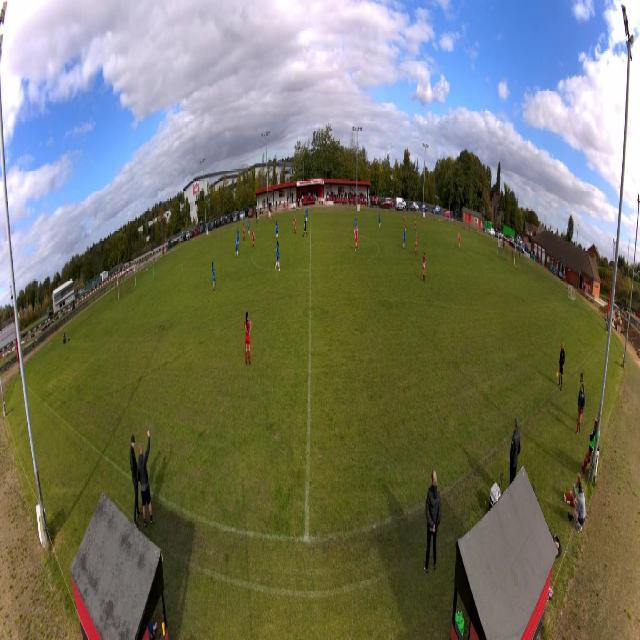player: (244, 311, 252, 366), (275, 240, 281, 271), (354, 227, 360, 253), (302, 216, 308, 237), (212, 261, 216, 291), (422, 251, 426, 280), (292, 215, 297, 235), (235, 236, 239, 260), (252, 228, 256, 249), (402, 228, 406, 249), (354, 215, 358, 236), (275, 220, 279, 240), (236, 228, 240, 248), (415, 231, 418, 257), (242, 223, 246, 241), (305, 207, 309, 223), (152, 264, 155, 284), (414, 215, 417, 234), (403, 216, 407, 230), (379, 211, 382, 228), (458, 232, 461, 249), (270, 210, 273, 221), (248, 219, 250, 235)
